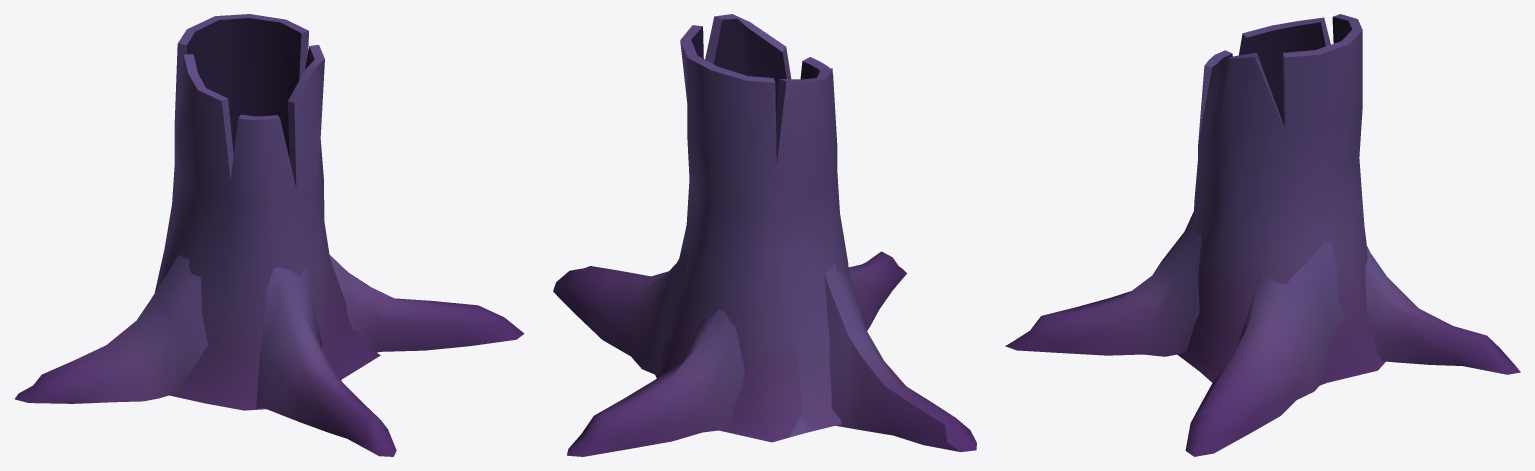
The model's file is Blue_tree02.FBX.
The picture shows the model from 3 angles, left to right: view 1: azimuth 30°, elevation 25°; view 2: azimuth 150°, elevation 25°; view 3: azimuth 270°, elevation 25°; orthographic projection. The views are drawn at different scales.
Parts seen in each view (by area): view 1: Object001; view 2: Object001; view 3: Object001.
Boxes of the visible parts, bbox=[...] form: Object001: bbox=[15, 14, 524, 456]; Object001: bbox=[553, 14, 976, 456]; Object001: bbox=[1005, 14, 1520, 456].
Bounding box in the file's own units: 1159 × 792 × 1140.
